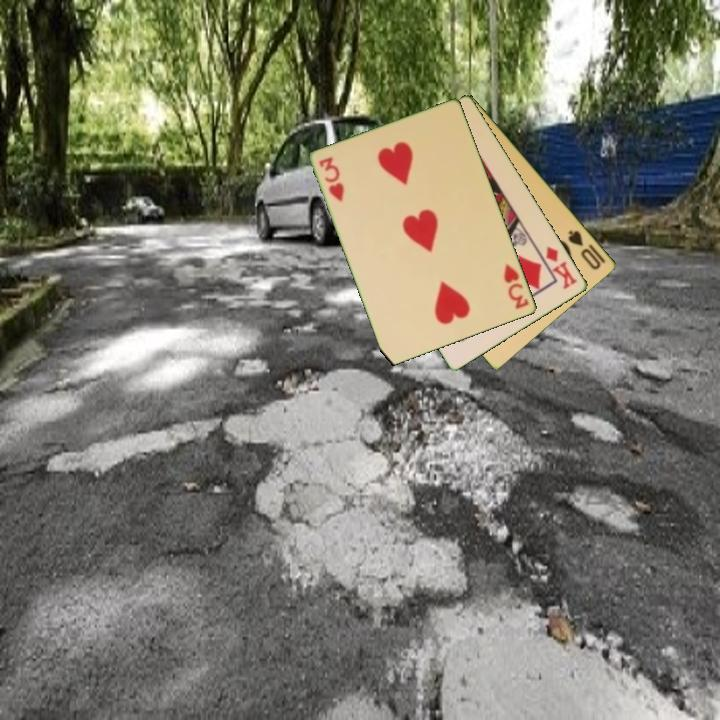10s: (565, 227, 604, 273)
3h: (500, 261, 532, 312), (316, 154, 347, 205)
Kd: (542, 242, 581, 293)
